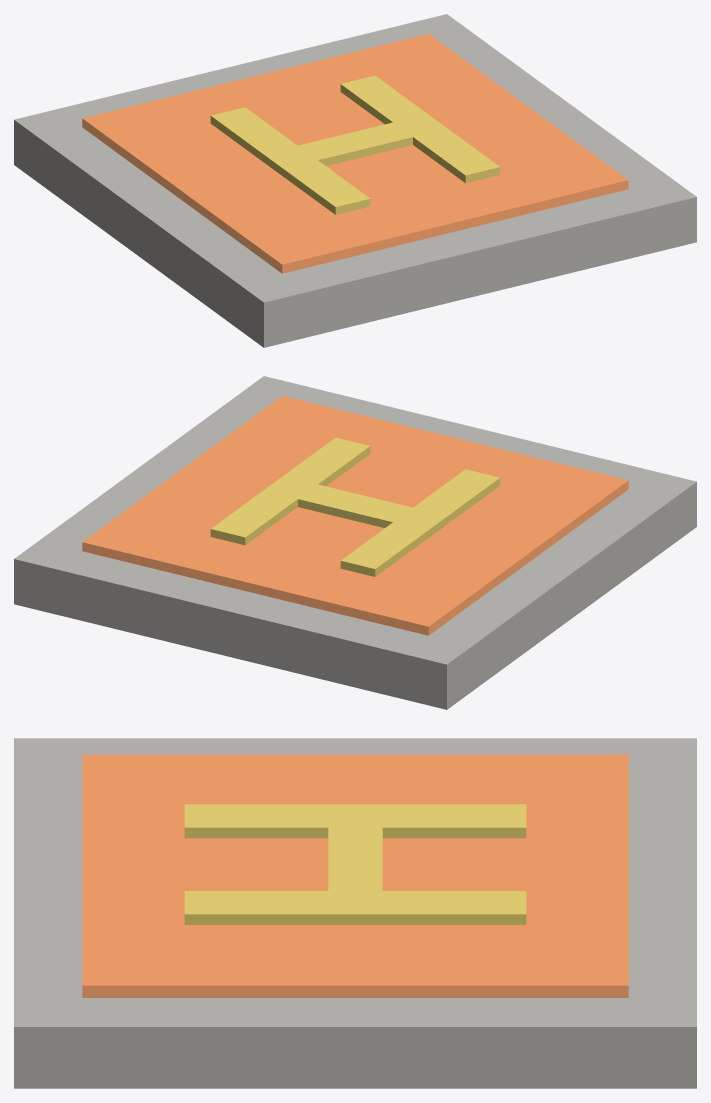
The model's file is build_drone_pad.glb.
The picture shows the model from 3 angles, top to bottom: view 1: azimuth 30°, elevation 25°; view 2: azimuth 150°, elevation 25°; view 3: azimuth 270°, elevation 25°; orthographic projection. The views are drawn at different scales.
Visible parts, largest first — view 1: Baked; view 2: Baked; view 3: Baked.
Part boxes in pixels (x1,y1,x2,y2): Baked: [14, 14, 696, 347]; Baked: [14, 376, 696, 709]; Baked: [14, 738, 696, 1088].
Size of the model in its own units: 1 by 0.1375 by 1.
